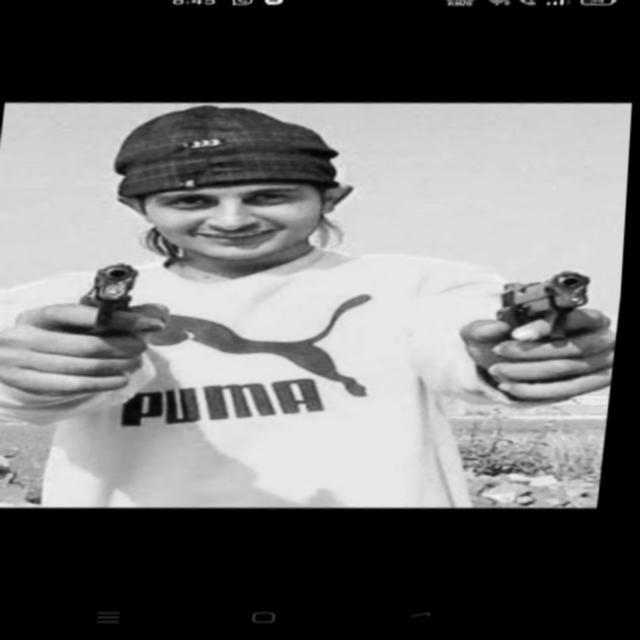weapon: (30, 258, 170, 404), (474, 270, 606, 418)
